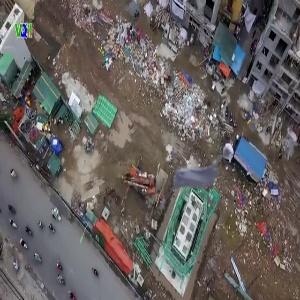drone: (151, 115, 254, 218)
